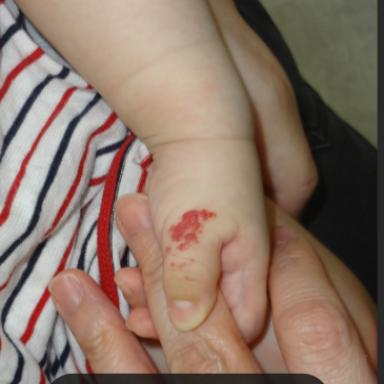Hemangiome: (170, 209, 216, 250)
